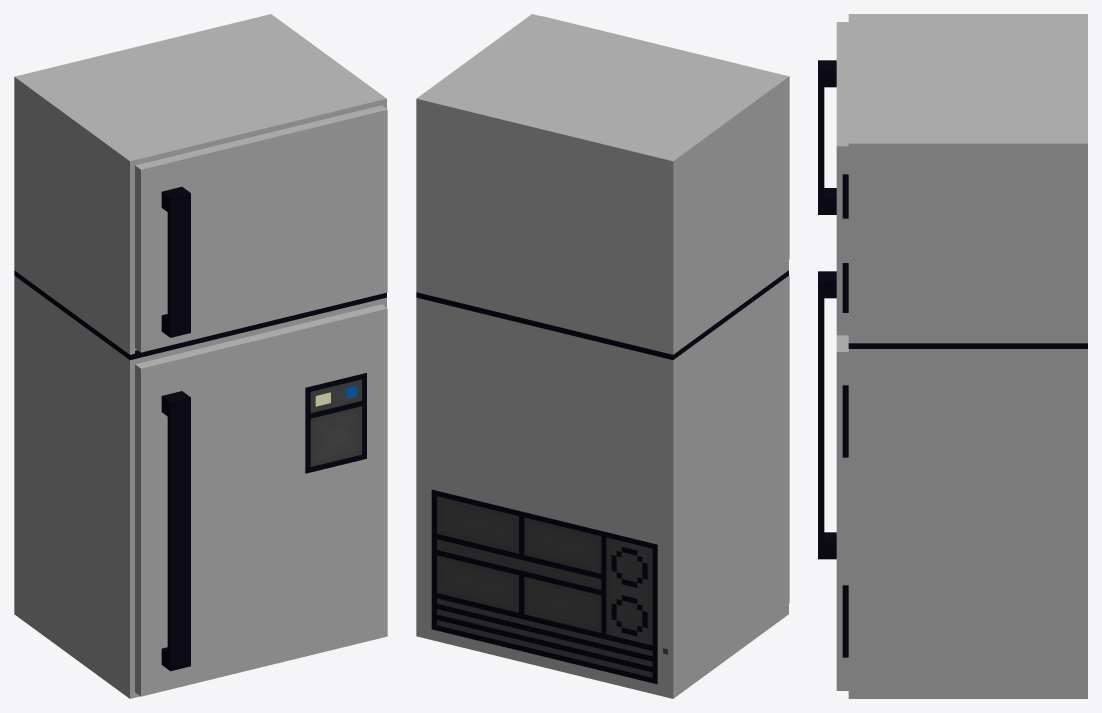
Rendered from Fridge.obj.
3 renders of one model, left to right at view 1: azimuth 30°, elevation 25°; view 2: azimuth 150°, elevation 25°; view 3: azimuth 270°, elevation 25°, orthographic. The views are drawn at different scales.
Size of the model in its own units: 5 by 10 by 4.4.
Materials: 1 (1 with a texture image).
